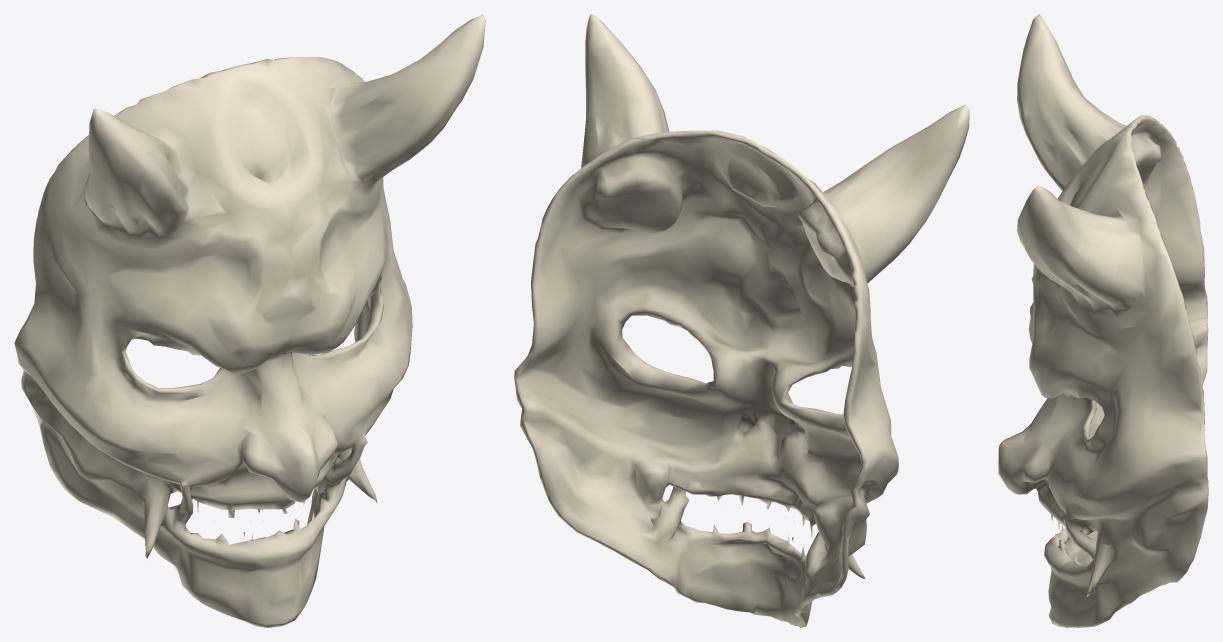
File: oni-mask.glb
3 renders of one model, left to right at view 1: azimuth 30°, elevation 25°; view 2: azimuth 150°, elevation 25°; view 3: azimuth 270°, elevation 25°, orthographic. The views are drawn at different scales.
Visible parts, largest first — view 1: Oni_Mask_4_Oni_Mask_4_0; view 2: Oni_Mask_4_Oni_Mask_4_0; view 3: Oni_Mask_4_Oni_Mask_4_0.
Part boxes in pixels (x1,y1,x2,y2): Oni_Mask_4_Oni_Mask_4_0: (14, 14, 485, 627); Oni_Mask_4_Oni_Mask_4_0: (514, 14, 969, 627); Oni_Mask_4_Oni_Mask_4_0: (998, 14, 1208, 627).
Bounding box in the file's own units: 0.7201 × 0.9959 × 0.3656.
